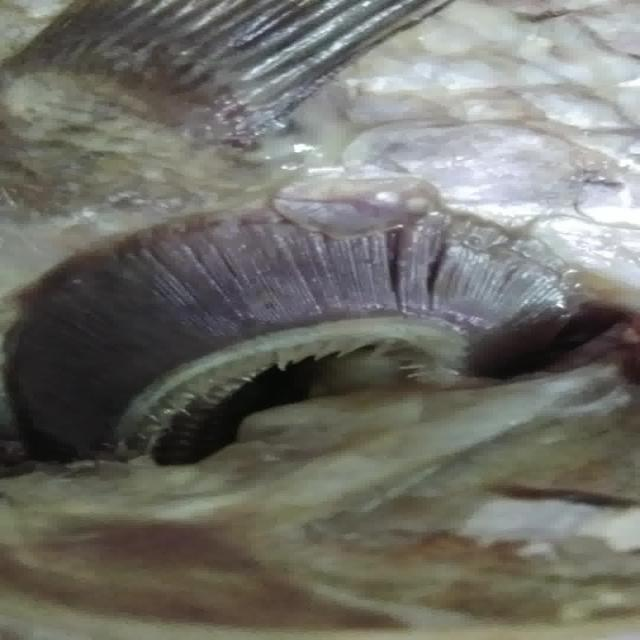Non-Fresh: (24, 192, 569, 444)
